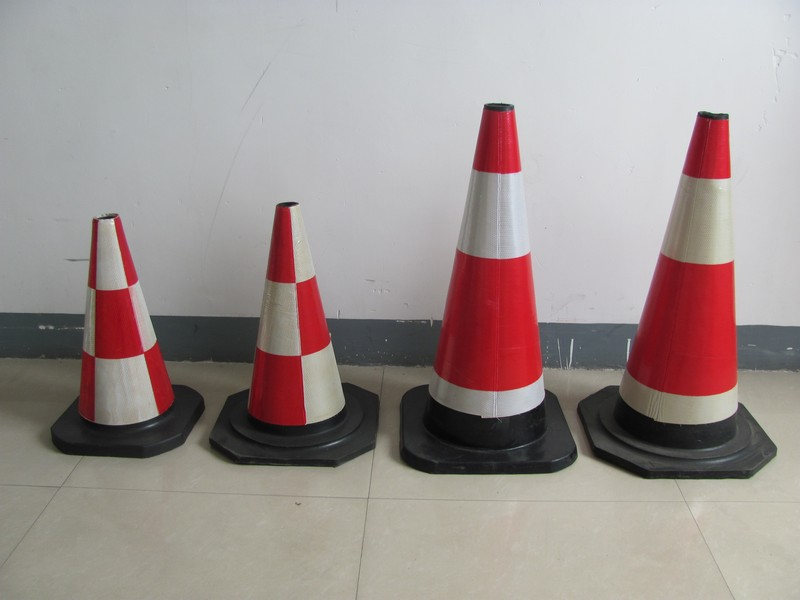traffic_cone: (383, 84, 585, 494), (579, 107, 789, 492), (207, 199, 398, 480), (41, 189, 202, 470)
